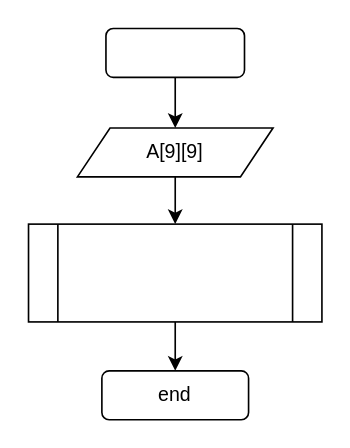
The diagram is 350 pixels wide and 448 high, and some of its shapes have lost their labels. The centre of each missing label's shape, as x and y in pixels:
"solve_sudoku(A[9][9])" goes at (174,272).
"start" goes at (174,52).
